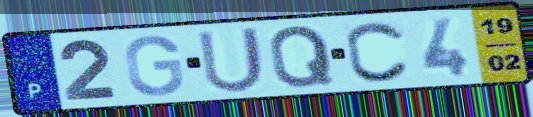2: (57, 37, 121, 104)
4: (420, 15, 473, 79)
C: (344, 19, 413, 84)
G: (122, 33, 187, 98)
Q: (267, 23, 338, 90)
U: (194, 24, 268, 95)
